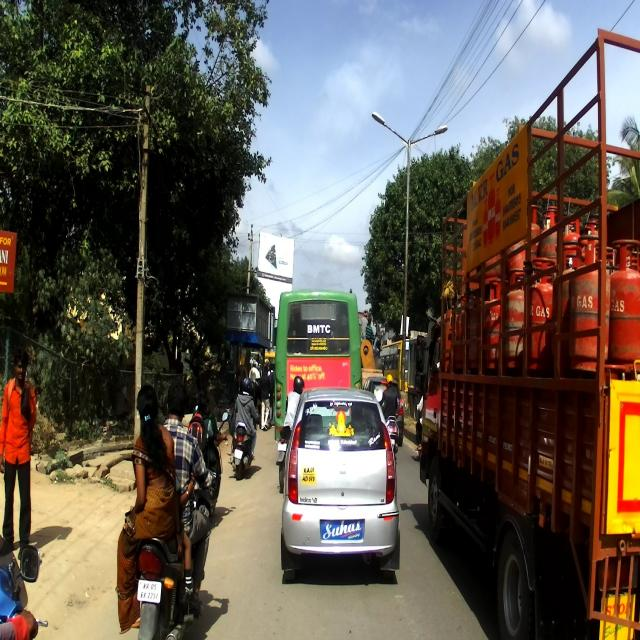bus: (274, 289, 359, 422)
car: (278, 389, 400, 586)
motorcycle: (132, 475, 216, 637)
scooter: (231, 413, 258, 483)
truck: (415, 26, 639, 638)
